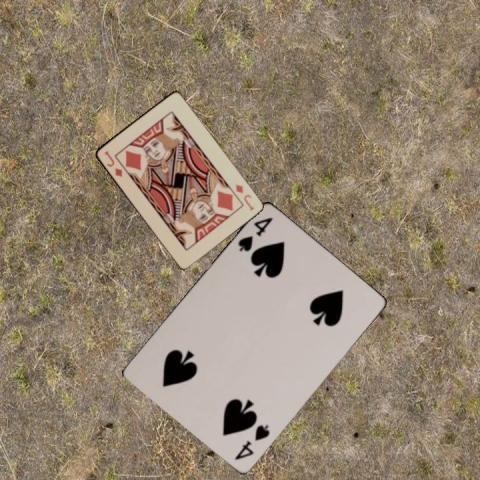4s: (231, 420, 271, 460), (235, 213, 274, 253)
Jd: (232, 181, 255, 212), (101, 147, 123, 179)
